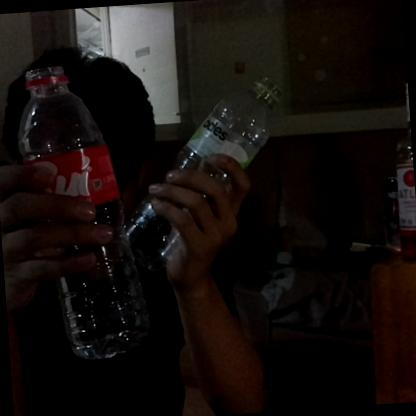plastic_bottles: (15, 60, 153, 366), (113, 72, 296, 276)
